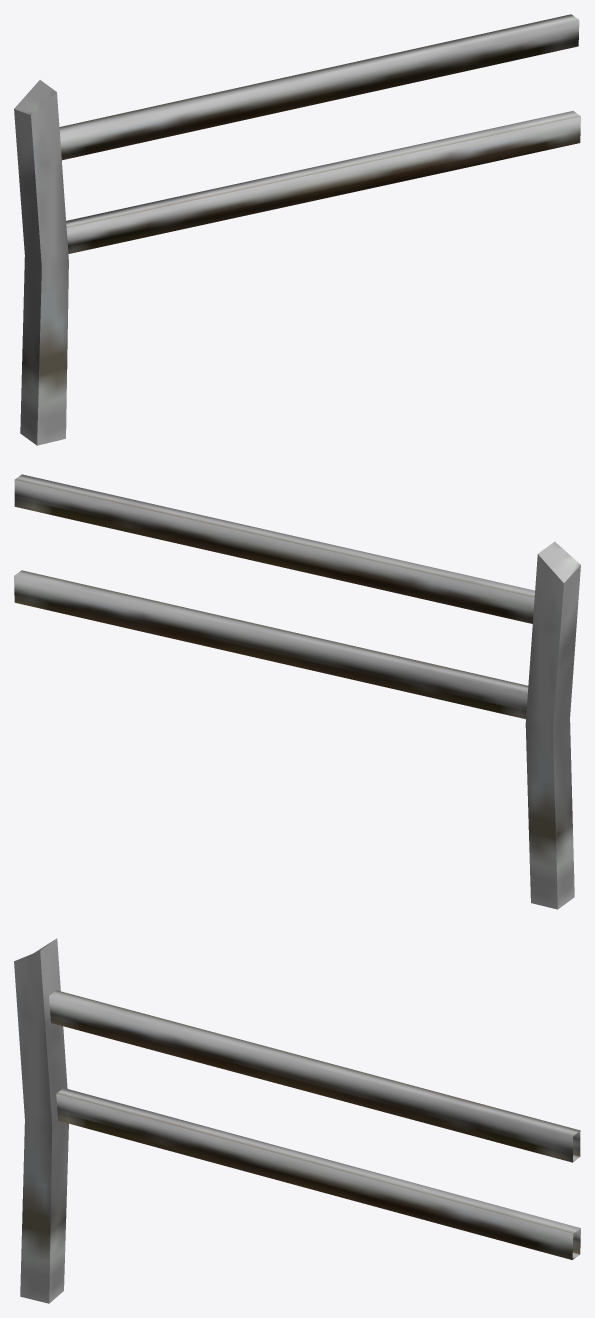
File: general_obj_fence03.fbx
3 views of the same model, one above another, from view 1: azimuth 30°, elevation 25°; view 2: azimuth 150°, elevation 25°; view 3: azimuth 330°, elevation 25° (orthographic).
Visible parts, largest first — view 1: Sphere01; view 2: Sphere01; view 3: Sphere01.
Part boxes in pixels (x1,y1,x2,y2): Sphere01: (14,14,580,445); Sphere01: (14,474,580,909); Sphere01: (14,938,580,1303).
Size of the model in its own units: 3.77 by 2.27 by 0.2005.
